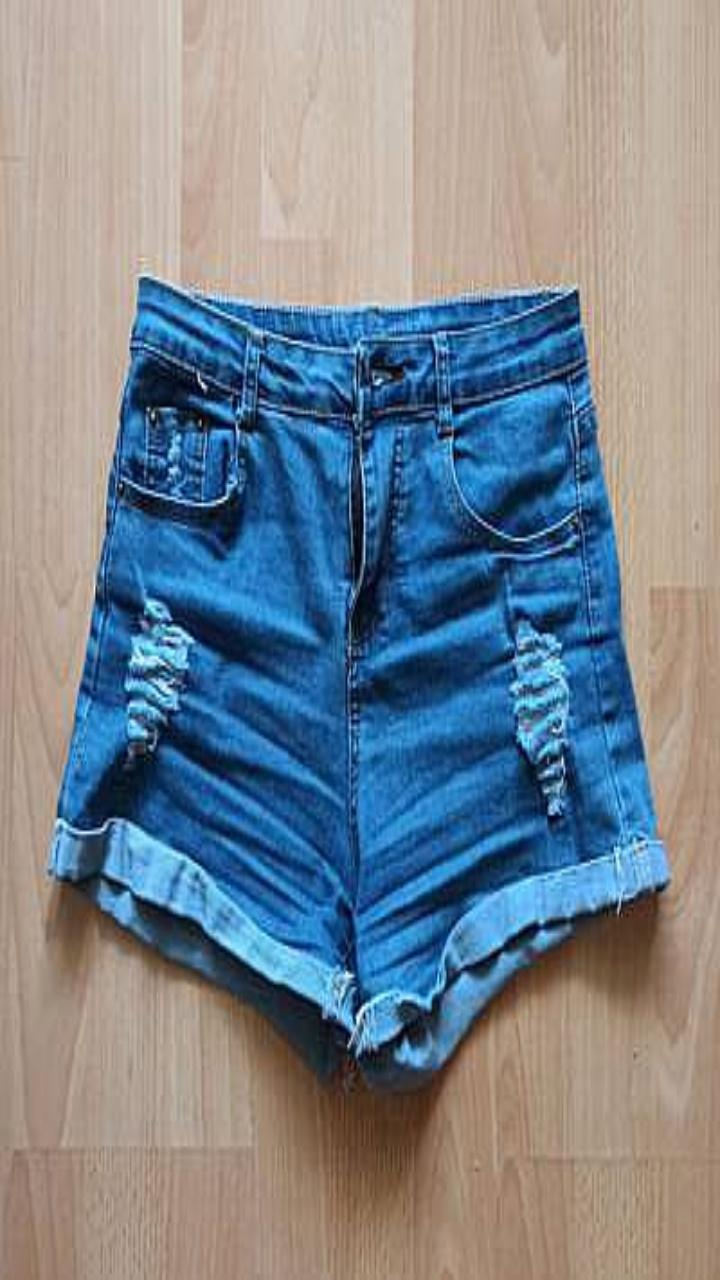Shorts: (48, 274, 669, 1089)
